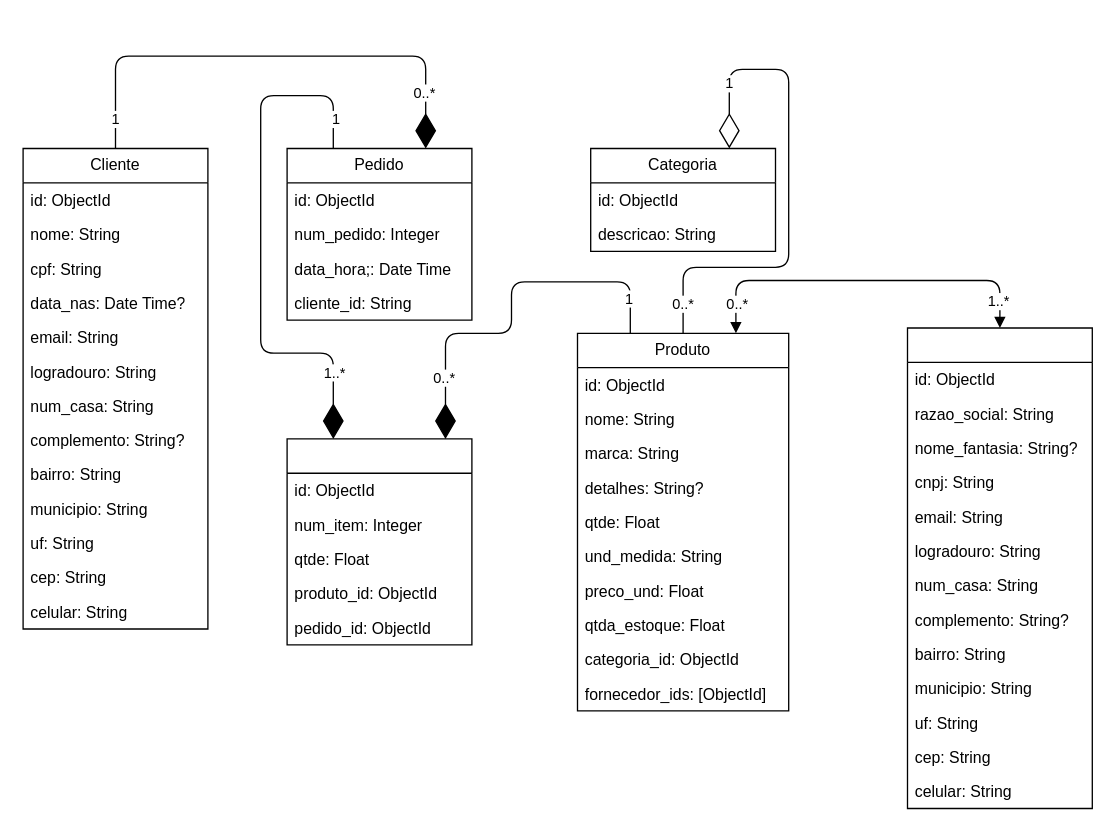
Some shapes in this 1115 by 836 pixel diagram are drawn without their labels. Here are the shapes that lost their labels. From the top down, the box of each, then its label:
(286, 438, 472, 645): ItemPedido
(906, 327, 1092, 808): Fornecedor
